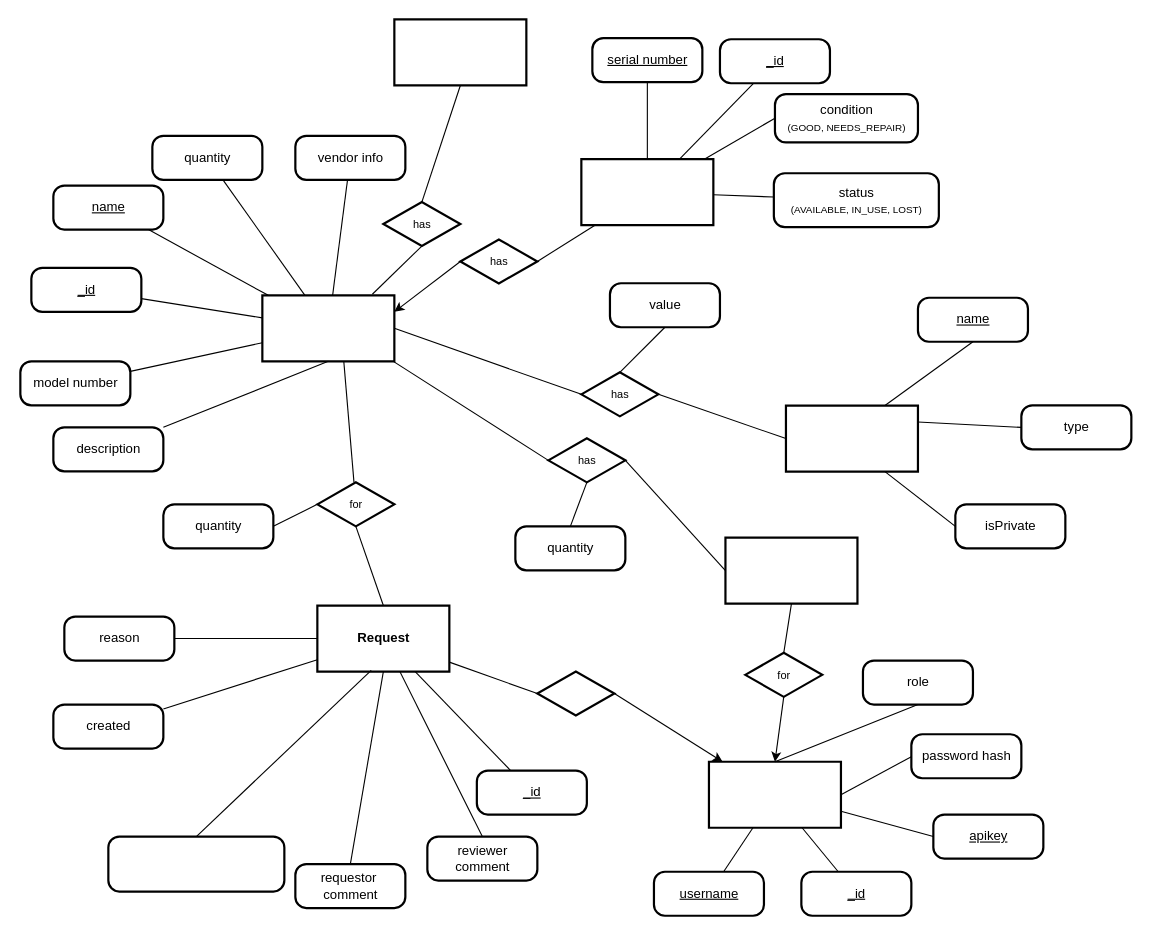
Image size: 1151x936. Some labels were removed from this diagram. Here are the shapes that lost their labels. From the top down, the centre of each, then its label:
At [460,52]: "Tag".
At [647,192]: "Instance".
At [328,328]: "Item".
At [851,438]: "Custom Field".
At [791,570]: "Cart".
At [575,693]: "made by".
At [774,794]: "User".
At [196,863]: "status (PENDING, APPROVED, DENIED, FULFILLED)".
